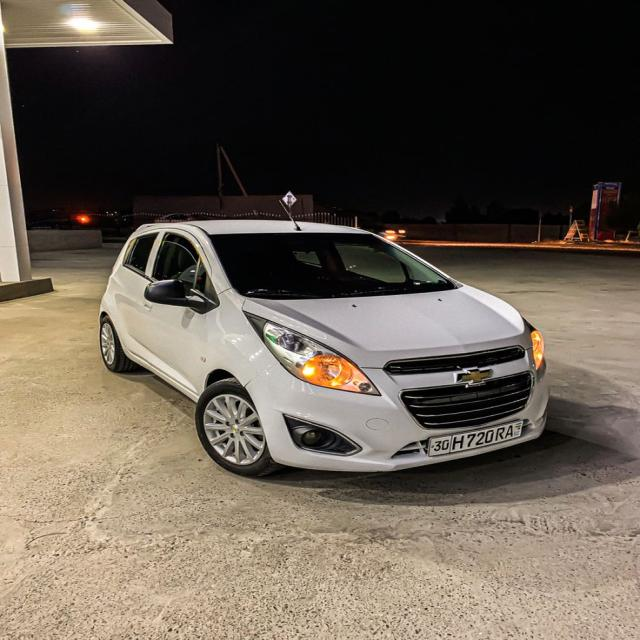Placas: (430, 421, 527, 459)
